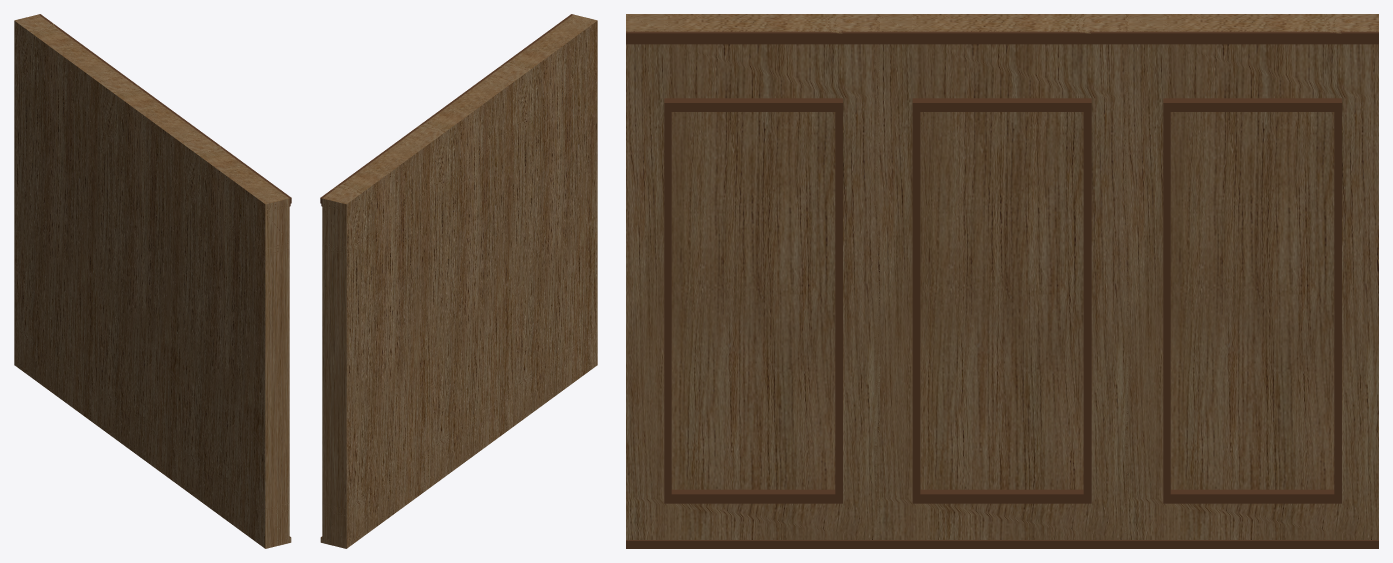
File: Arch_WallD_long.fbx
3 renders of one model, left to right at view 1: azimuth 30°, elevation 25°; view 2: azimuth 150°, elevation 25°; view 3: azimuth 270°, elevation 25°, orthographic. The views are drawn at different scales.
Parts seen in each view (by area): view 1: WallD; view 2: WallD; view 3: WallD.
Boxes of the visible parts, x1,y1,x2,y2 form: WallD: (14, 14, 291, 548); WallD: (320, 14, 597, 548); WallD: (626, 14, 1378, 548).
Bounding box in the file's own units: 31.7 × 340 × 449.
